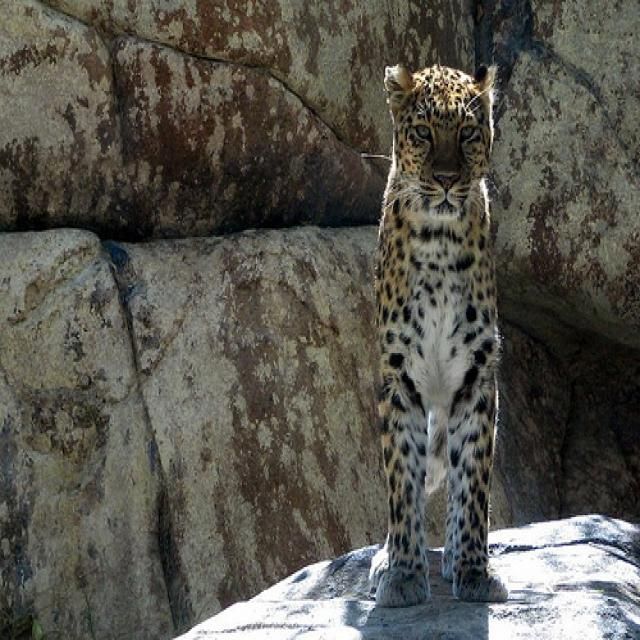Leopard: (366, 61, 508, 608)
